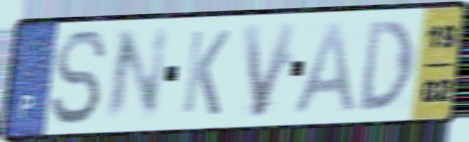A: (290, 19, 361, 117)
D: (357, 17, 417, 115)
K: (179, 27, 233, 118)
N: (100, 24, 173, 128)
S: (48, 27, 110, 129)
V: (240, 18, 301, 122)
